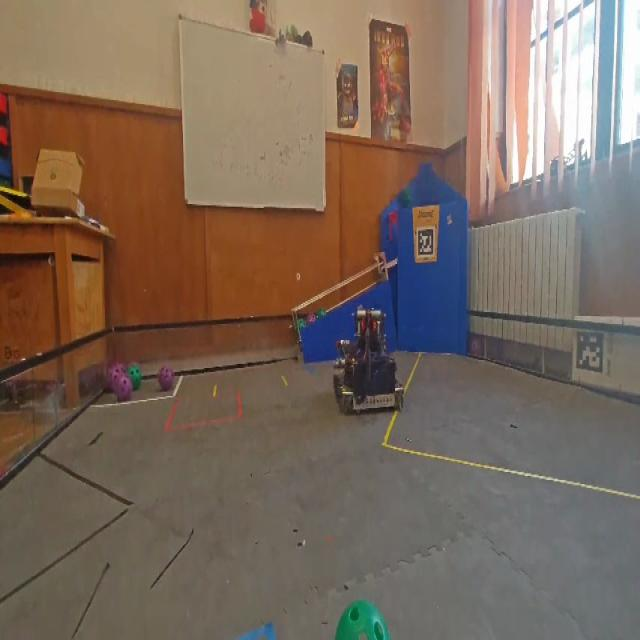artifact_green: (335, 600, 390, 639), (107, 364, 124, 393), (129, 364, 141, 390), (398, 188, 411, 207), (114, 363, 126, 374), (297, 319, 307, 329), (317, 308, 326, 318)
artifact_purple: (117, 375, 132, 402), (108, 366, 123, 393), (158, 366, 174, 391), (113, 363, 126, 374), (307, 314, 316, 323)
